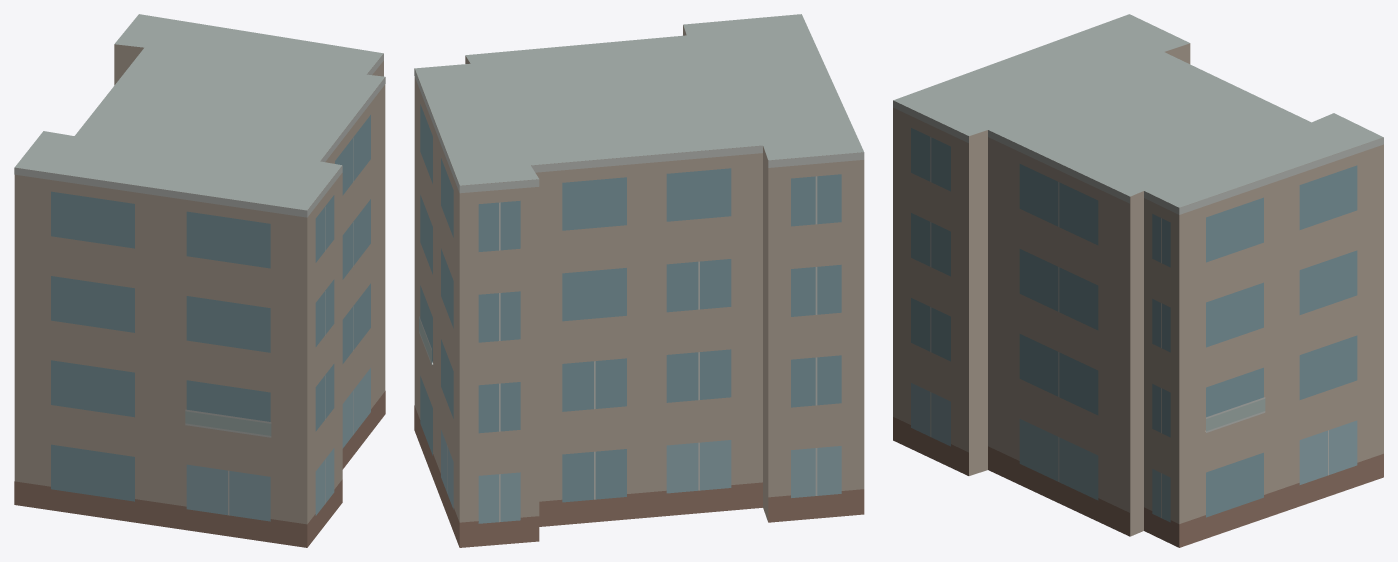
Rendered from survey-upis-32747044.glb.
3 views of the same model, side by side, from view 1: azimuth 30°, elevation 25°; view 2: azimuth 150°, elevation 25°; view 3: azimuth 270°, elevation 25° (orthographic). The views are drawn at different scales.
Parts seen in each view (by area): view 1: survey-upis-32747044.tmp; view 2: survey-upis-32747044.tmp; view 3: survey-upis-32747044.tmp.
Boxes of the visible parts, bbox=[...] form: survey-upis-32747044.tmp: bbox=[14, 14, 385, 547]; survey-upis-32747044.tmp: bbox=[414, 14, 864, 547]; survey-upis-32747044.tmp: bbox=[893, 14, 1383, 547].
Bounding box in the file's own units: 14.16 × 11.58 × 15.15.
